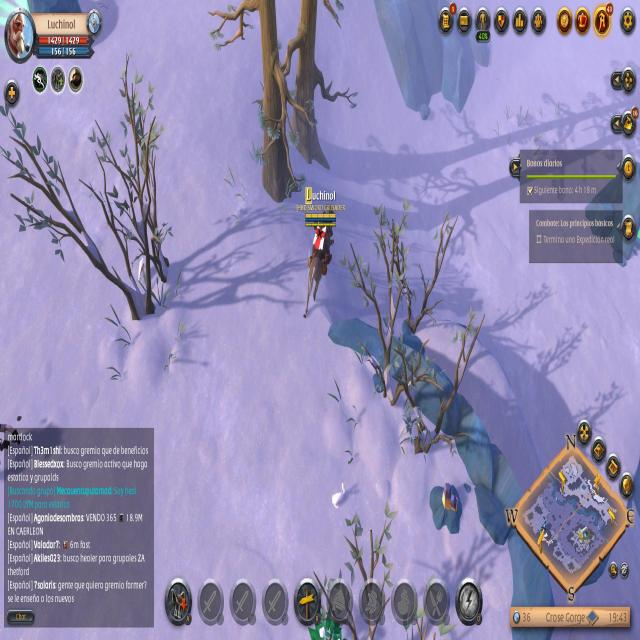piedra_cobre: (423, 477, 468, 540)
